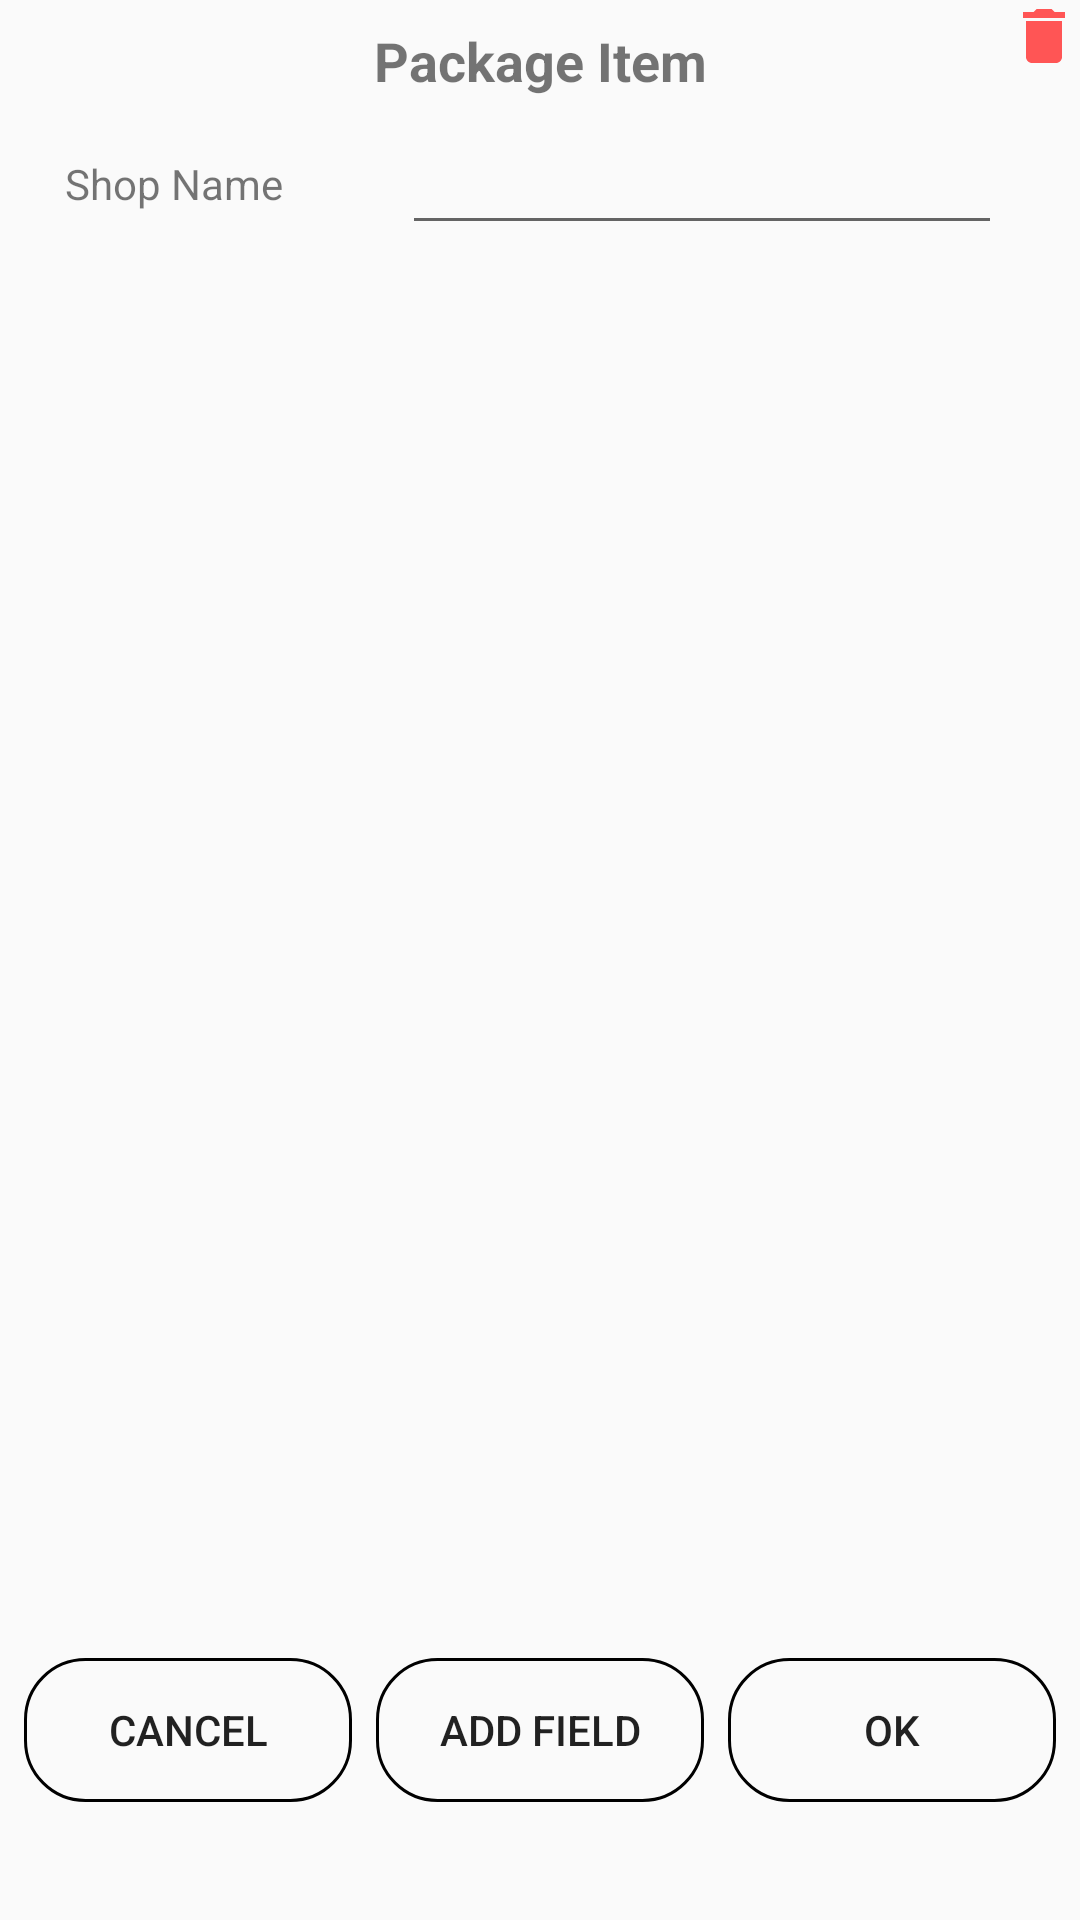

Point at icon controls on the screen. Image size 1080*1920, points as (x=x, y=y).
delete: (x=1044, y=36)
